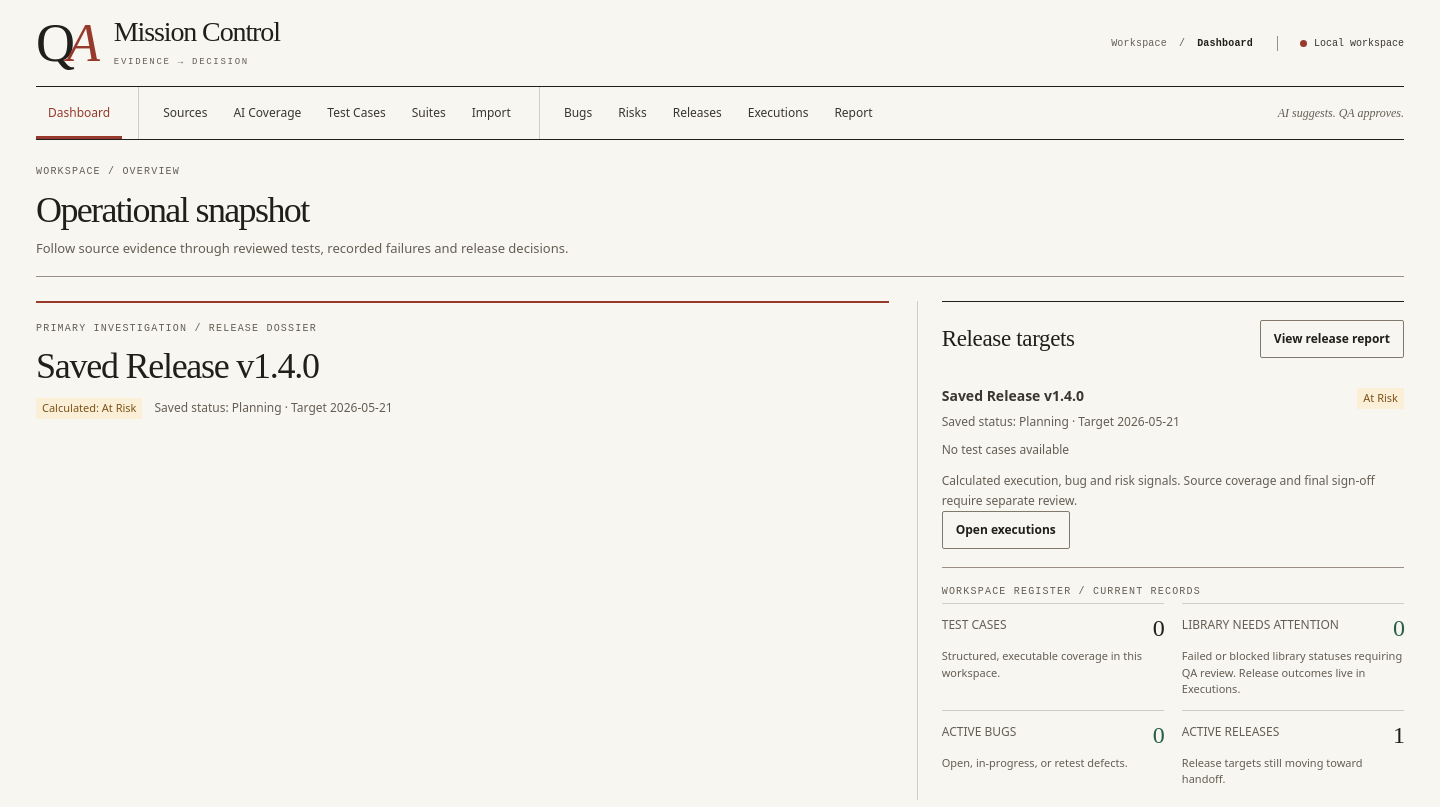
Test: App storage handling › opens the Release Report page from navigation
Click the button with aria-label "Release Report": (854, 113) [822,87,885,139]
(page scrolled)
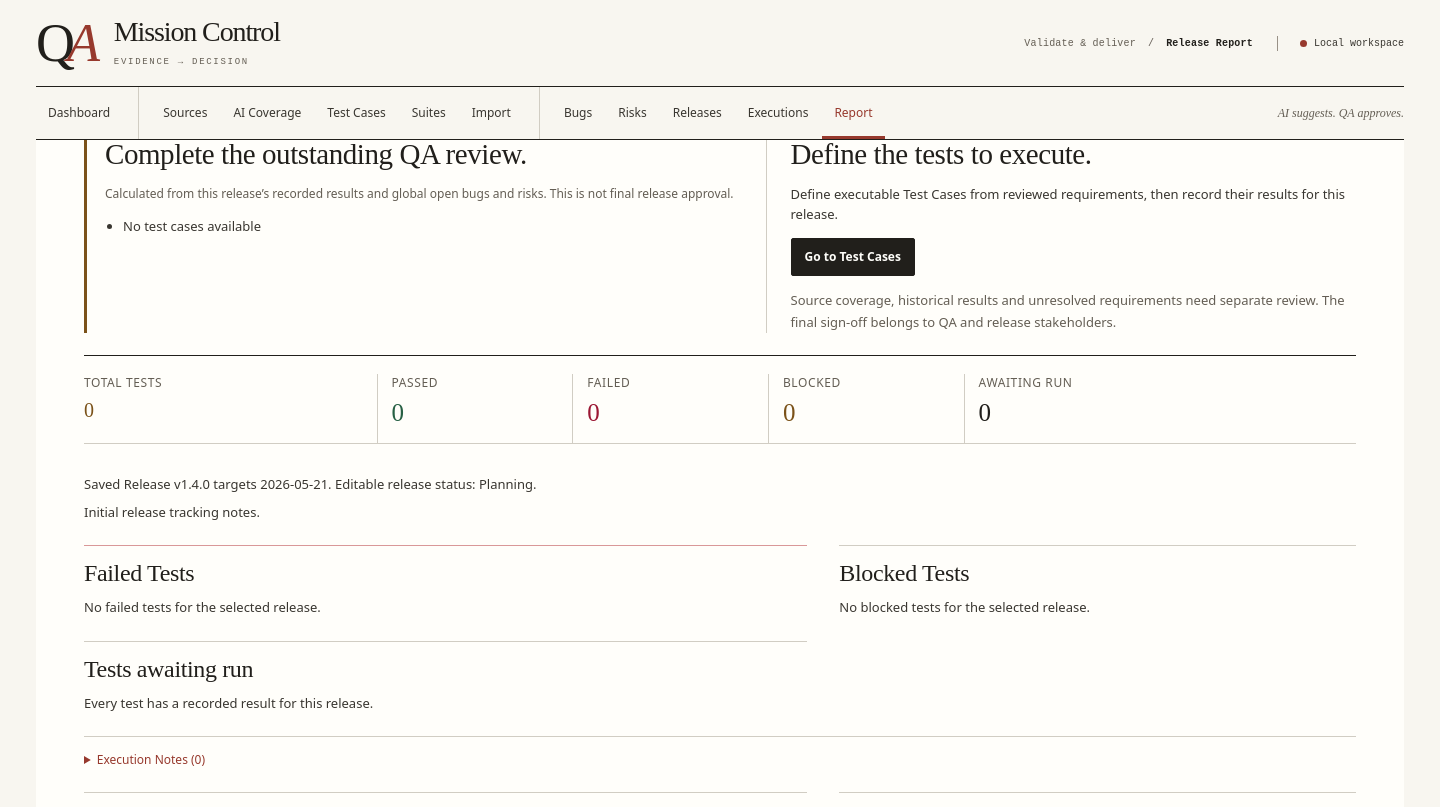
Expected: the text "Saved Release v1.4.0 targets" is shown, [84,475,536,493]
